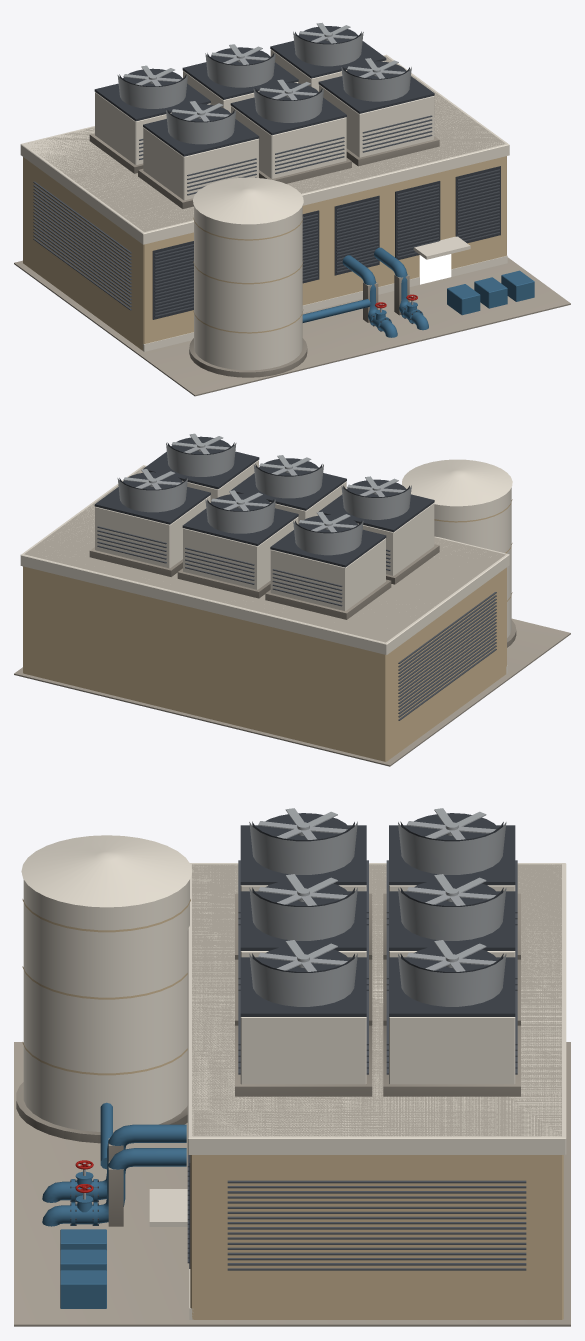
Rendered from cooling-plant.glb.
The picture shows the model from 3 angles, top to bottom: view 1: azimuth 30°, elevation 25°; view 2: azimuth 150°, elevation 25°; view 3: azimuth 270°, elevation 25°; orthographic projection. The views are drawn at different scales.
Visible parts, largest first — view 1: cooling-plant_v0; view 2: cooling-plant_v0; view 3: cooling-plant_v0.
Part boxes in pixels (left/top/right/bottom): cooling-plant_v0: left=14, top=22, right=570, bottom=396; cooling-plant_v0: left=14, top=433, right=570, bottom=766; cooling-plant_v0: left=14, top=808, right=570, bottom=1326.
Size of the model in its own units: 36 by 18.7 by 30.
